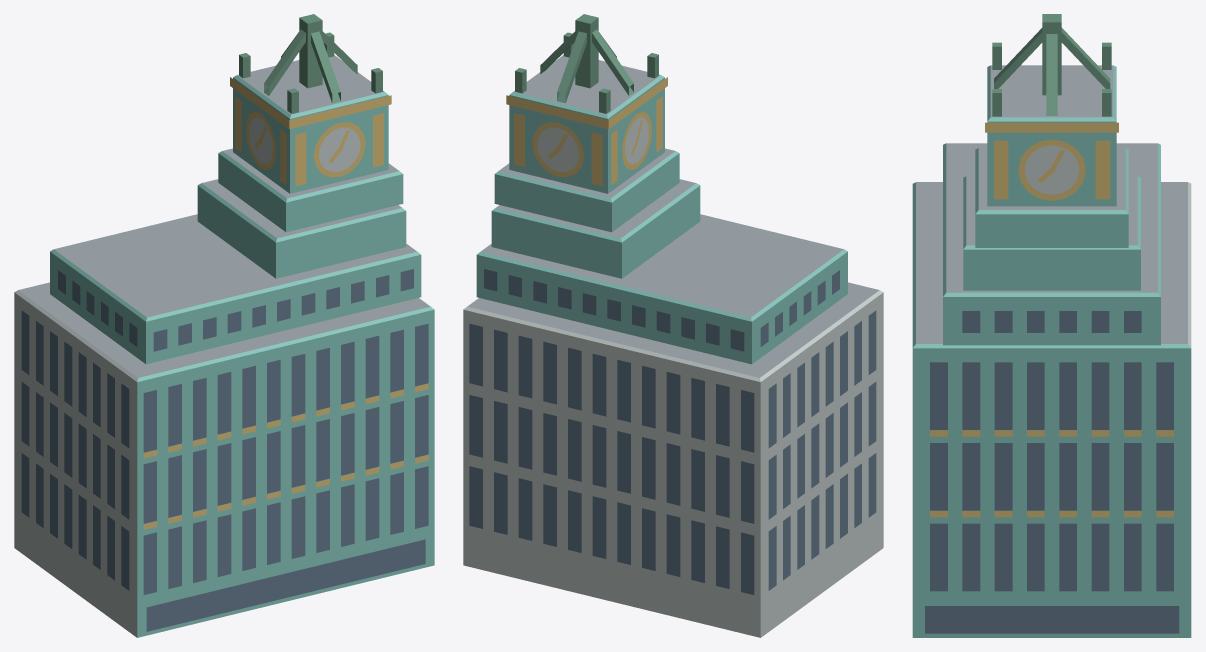
File: la-eastern-columbia.glb
3 renders of one model, left to right at view 1: azimuth 30°, elevation 25°; view 2: azimuth 150°, elevation 25°; view 3: azimuth 270°, elevation 25°, orthographic. The views are drawn at different scales.
Visible parts, largest first — view 1: Eastern Columbia Building; view 2: Eastern Columbia Building; view 3: Eastern Columbia Building.
Part boxes in pixels (x1,y1,x2,y2): Eastern Columbia Building: (14, 14, 434, 637); Eastern Columbia Building: (463, 14, 883, 637); Eastern Columbia Building: (912, 14, 1191, 637).
Bounding box in the file's own units: 48.32 × 80 × 34.62.
